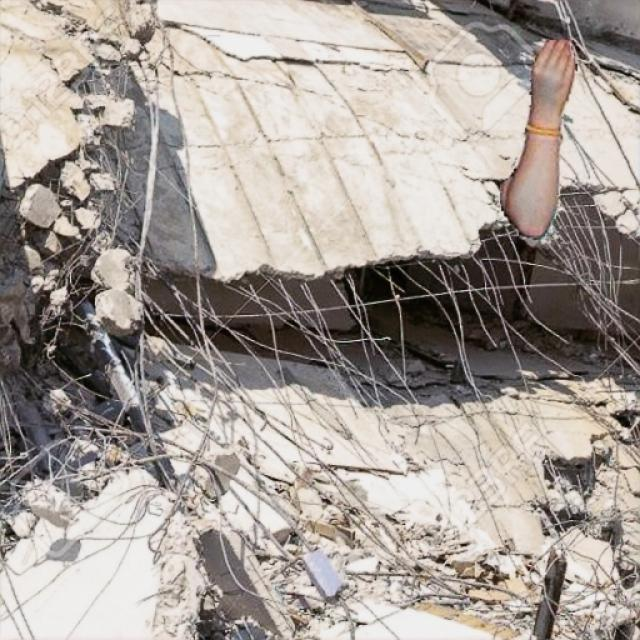Person in Rubble: (500, 40, 576, 239)
